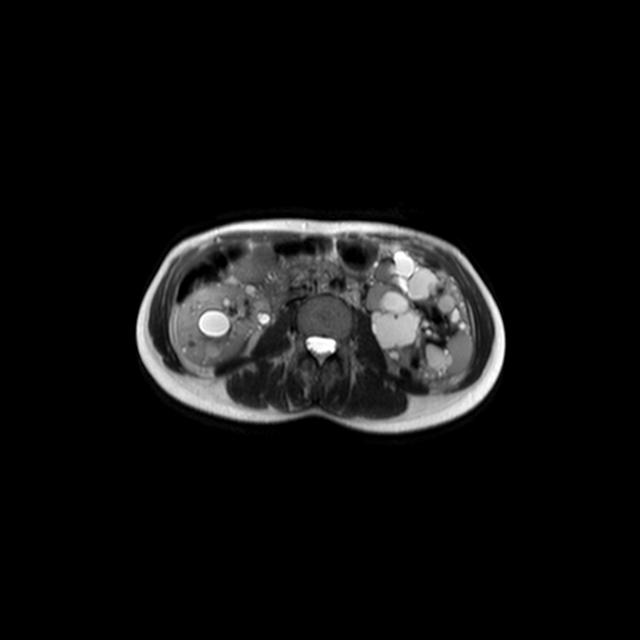sag: (174, 277, 272, 369)
sol: (365, 250, 473, 384)
